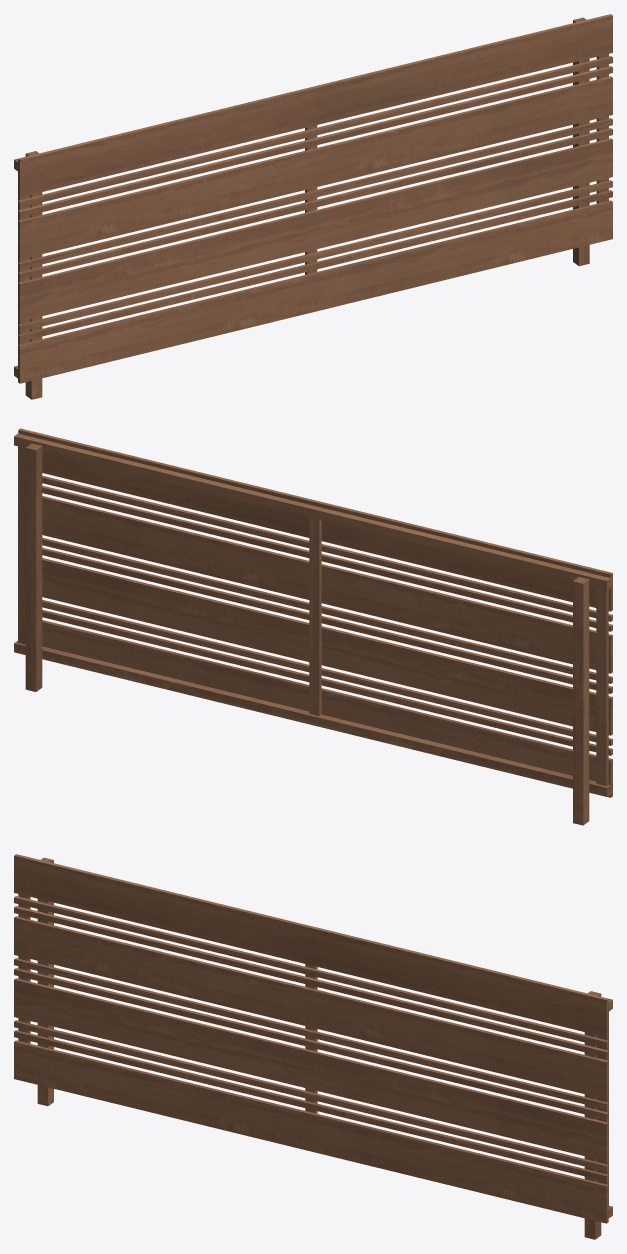
File: EAF-plus-120-18_w1999-h800_jara.fbx
The picture shows the model from 3 angles, top to bottom: view 1: azimuth 30°, elevation 25°; view 2: azimuth 150°, elevation 25°; view 3: azimuth 330°, elevation 25°; orthographic projection.
Parts seen in each view (by area): view 1: EAF-plus-120-18_w1999-h800_chacoalgray.003; view 2: EAF-plus-120-18_w1999-h800_chacoalgray.003; view 3: EAF-plus-120-18_w1999-h800_chacoalgray.003.
Boxes of the visible parts, left/top/right/bottom form: EAF-plus-120-18_w1999-h800_chacoalgray.003: left=14, top=14, right=612, bottom=399; EAF-plus-120-18_w1999-h800_chacoalgray.003: left=14, top=428, right=612, bottom=825; EAF-plus-120-18_w1999-h800_chacoalgray.003: left=14, top=854, right=612, bottom=1239.
Bounding box in the file's own units: 200 × 80 × 7.
1 material, 1 textured.
